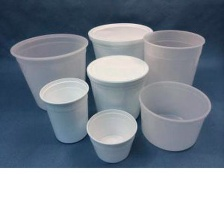plastic_box: (3, 26, 93, 115), (132, 76, 215, 155), (82, 49, 152, 124), (137, 23, 210, 94), (33, 73, 95, 148), (82, 104, 141, 168), (82, 17, 158, 64)
